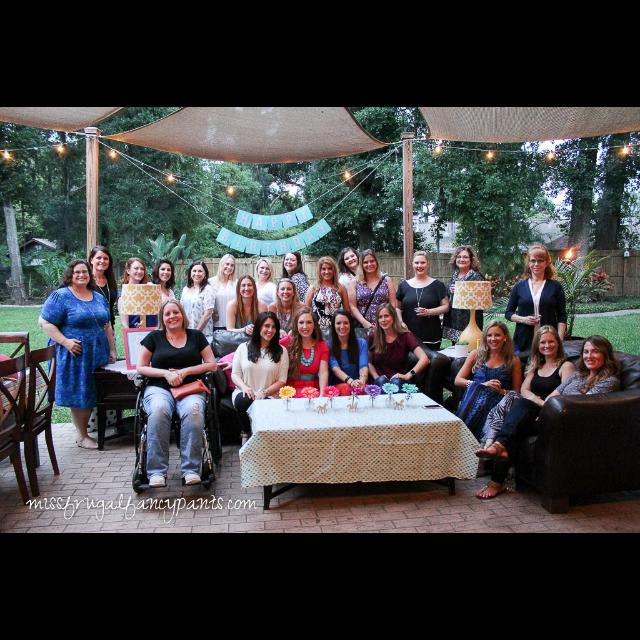head: (582, 336, 614, 372), (160, 300, 186, 332), (536, 326, 560, 358), (486, 321, 510, 352), (528, 247, 550, 276), (70, 260, 92, 288), (258, 312, 278, 342), (377, 304, 397, 332), (333, 310, 352, 338), (298, 310, 316, 338), (454, 246, 474, 270), (412, 252, 432, 276), (91, 248, 111, 272), (126, 258, 146, 282), (360, 250, 380, 274), (276, 280, 296, 302), (156, 259, 174, 283), (190, 262, 208, 284), (239, 276, 257, 298), (256, 260, 274, 280), (220, 254, 236, 276), (320, 260, 336, 282), (284, 252, 300, 272), (344, 248, 360, 268)
person: (474, 334, 626, 502), (471, 324, 579, 480), (134, 298, 218, 490), (38, 258, 118, 450), (505, 242, 569, 426), (454, 318, 524, 459), (68, 245, 119, 419), (230, 311, 290, 453), (364, 301, 430, 429), (394, 250, 451, 398), (116, 256, 168, 412), (273, 308, 331, 437), (347, 246, 398, 388), (203, 252, 251, 396), (441, 244, 487, 394), (139, 258, 185, 407), (304, 256, 352, 396), (223, 274, 270, 406), (321, 308, 371, 432), (266, 277, 312, 411), (332, 246, 376, 384), (176, 259, 218, 401), (244, 258, 286, 387), (276, 251, 316, 383)
